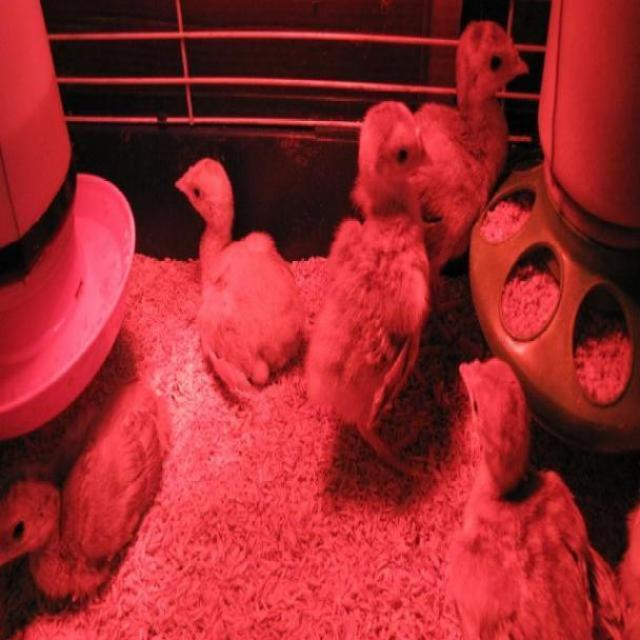Chicken: (309, 112, 447, 493)
